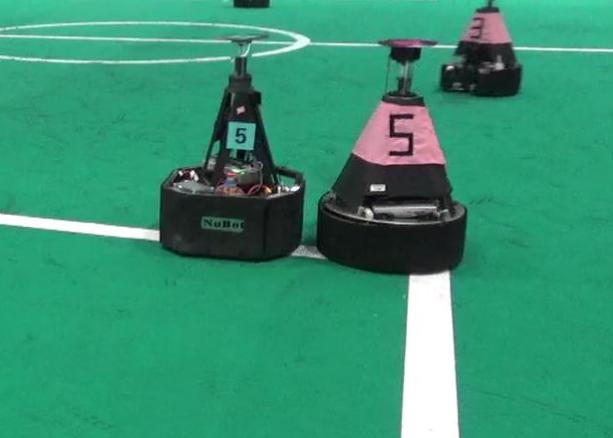robot: (316, 35, 470, 278), (160, 32, 305, 263), (439, 2, 524, 98)
